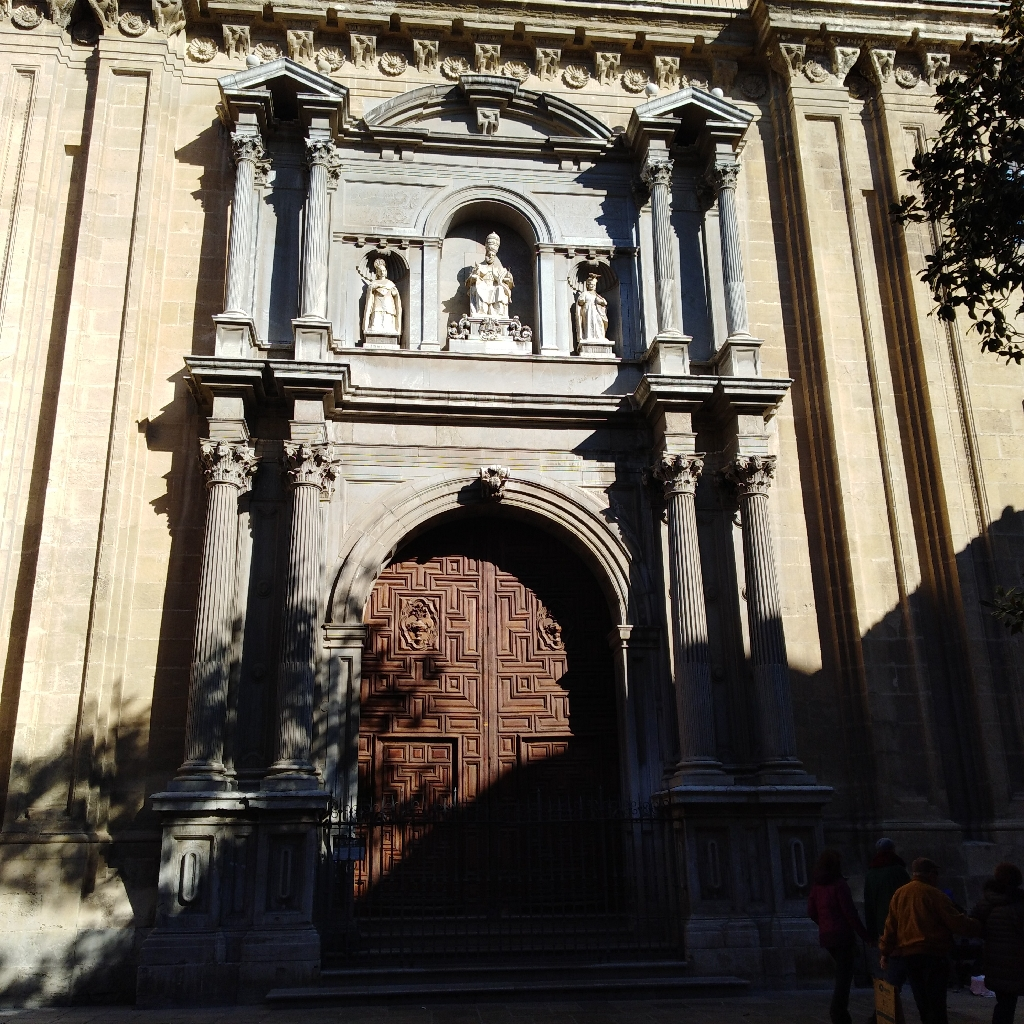arco-medio-punto: (341, 492, 640, 667), (427, 187, 550, 264)
fronton-curvo: (358, 74, 616, 155)
fronton-partido: (212, 60, 349, 112), (630, 87, 753, 139)
serliana: (335, 180, 643, 365)
